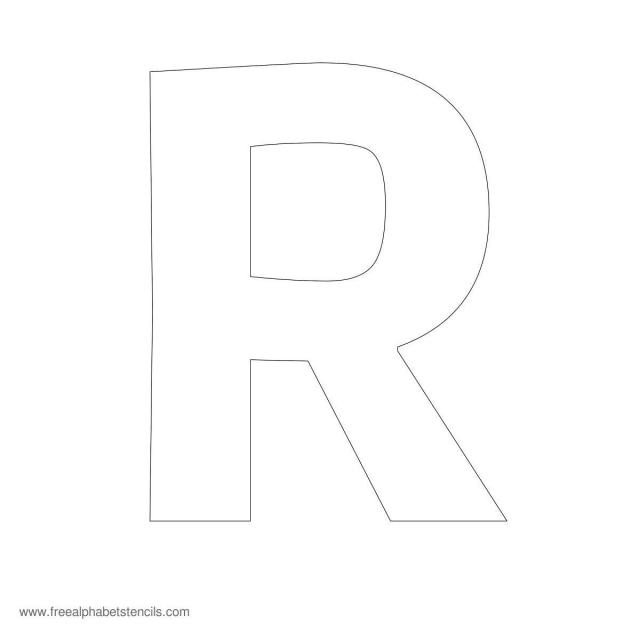R: (100, 49, 536, 553)
